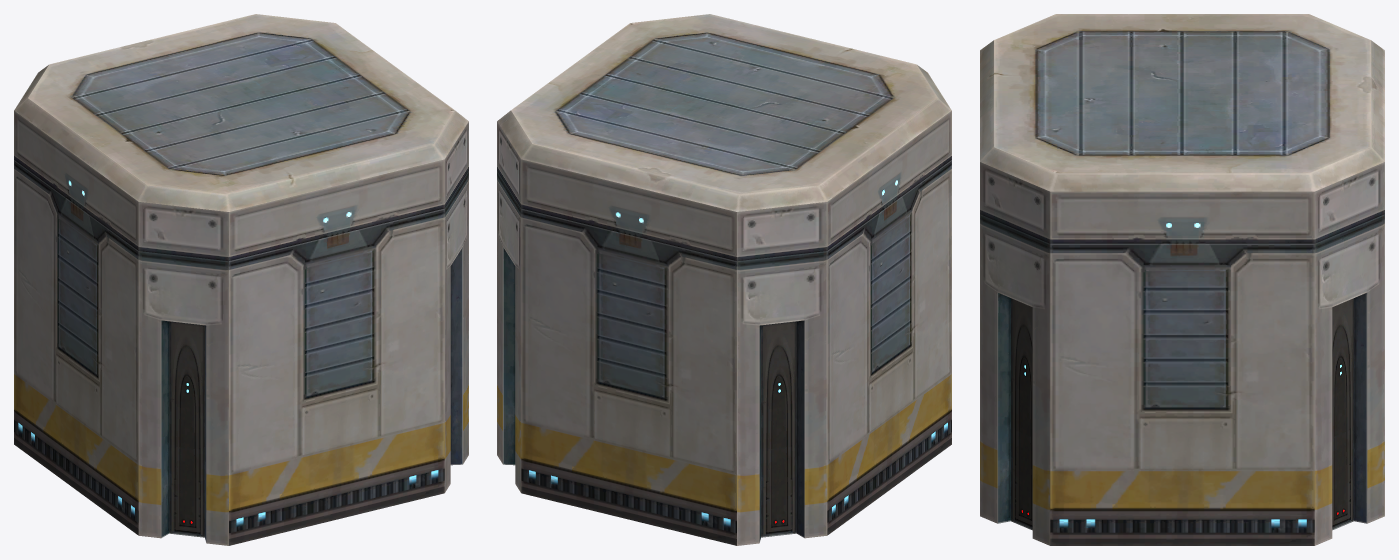
The model's file is all_item_con_square_crate.glb.
3 renders of one model, left to right at view 1: azimuth 30°, elevation 25°; view 2: azimuth 150°, elevation 25°; view 3: azimuth 270°, elevation 25°, orthographic. The views are drawn at different scales.
Visible parts, largest first — view 1: all_item_con_square_crate; view 2: all_item_con_square_crate; view 3: all_item_con_square_crate.
Boxes of the visible parts, x1,y1,x2,y2 form: all_item_con_square_crate: [14, 14, 468, 545]; all_item_con_square_crate: [497, 14, 951, 545]; all_item_con_square_crate: [980, 14, 1384, 545].
Bounding box in the file's own units: 0.15 × 0.15 × 0.15.
Materials: 1 (1 with a texture image).
